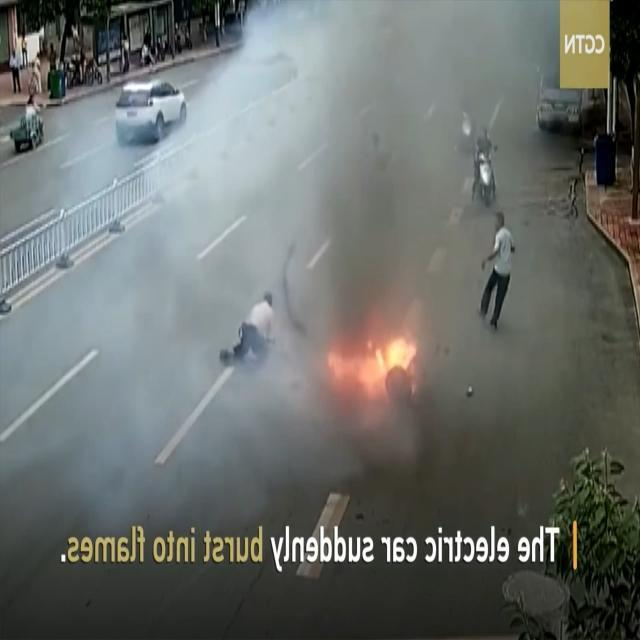fire: (324, 324, 422, 419)
